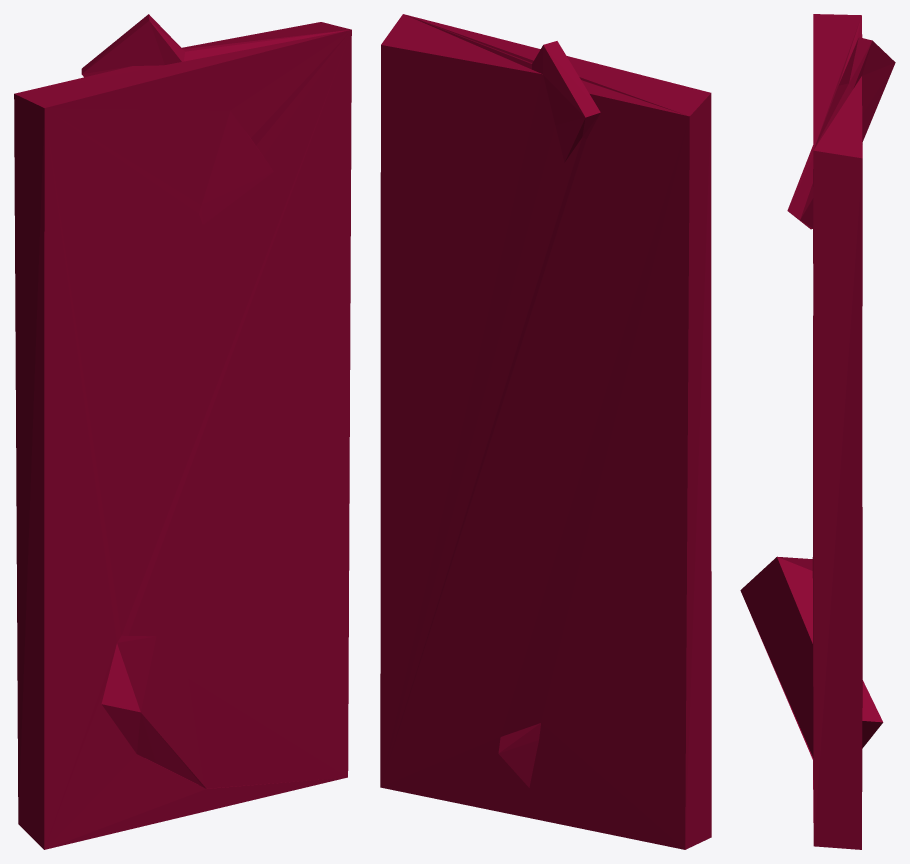
3 views of the same model, side by side, from view 1: azimuth 30°, elevation 25°; view 2: azimuth 150°, elevation 25°; view 3: azimuth 270°, elevation 25° (orthographic). The views are drawn at different scales.
Parts seen in each view (by area): view 1: 977_Cube.3945; view 2: 977_Cube.3945; view 3: 977_Cube.3945.
Boxes of the visible parts, x1=… form: 977_Cube.3945: x1=14, y1=14, x2=351, y2=849; 977_Cube.3945: x1=380, y1=14, x2=711, y2=849; 977_Cube.3945: x1=740, y1=14, x2=895, y2=849.
Bounding box in the file's own units: 5.29 × 12.74 × 2.45.
